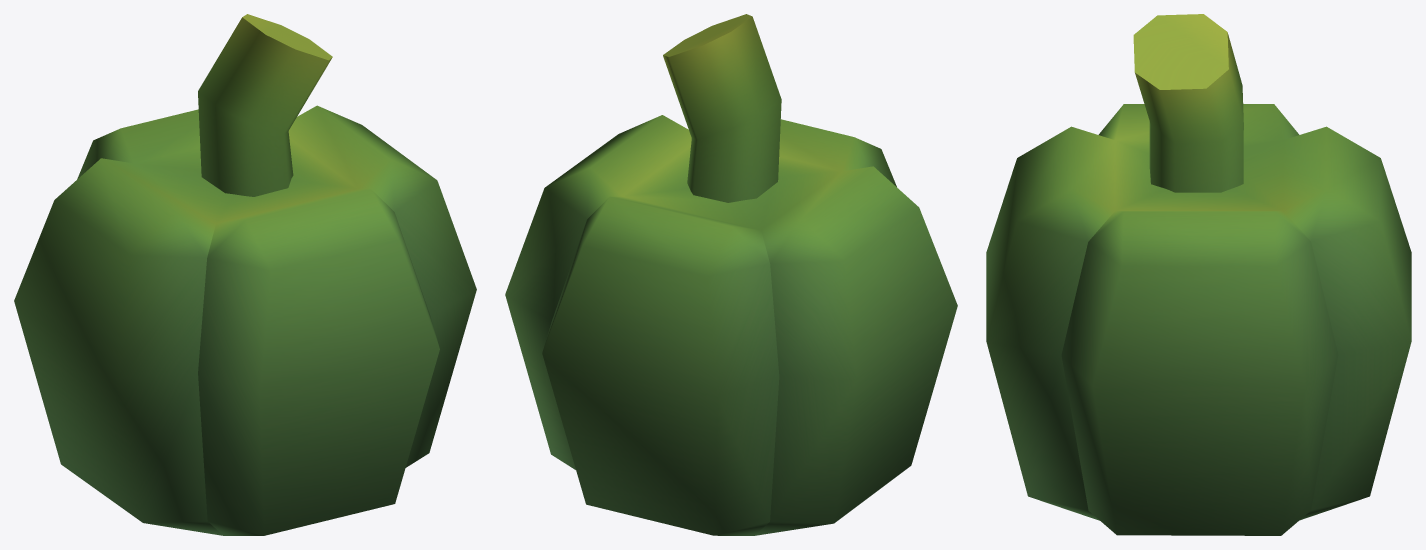
Rendered from paprika_green.fbx.
3 renders of one model, left to right at view 1: azimuth 30°, elevation 25°; view 2: azimuth 150°, elevation 25°; view 3: azimuth 270°, elevation 25°, orthographic. The views are drawn at different scales.
Visible parts, largest first — view 1: paprika_green; view 2: paprika_green; view 3: paprika_green.
Part boxes in pixels (bbox=[...]): paprika_green: bbox=[14, 14, 476, 535]; paprika_green: bbox=[505, 14, 957, 535]; paprika_green: bbox=[986, 14, 1411, 535].
Bounding box in the file's own units: 22.67 × 29 × 22.73.
